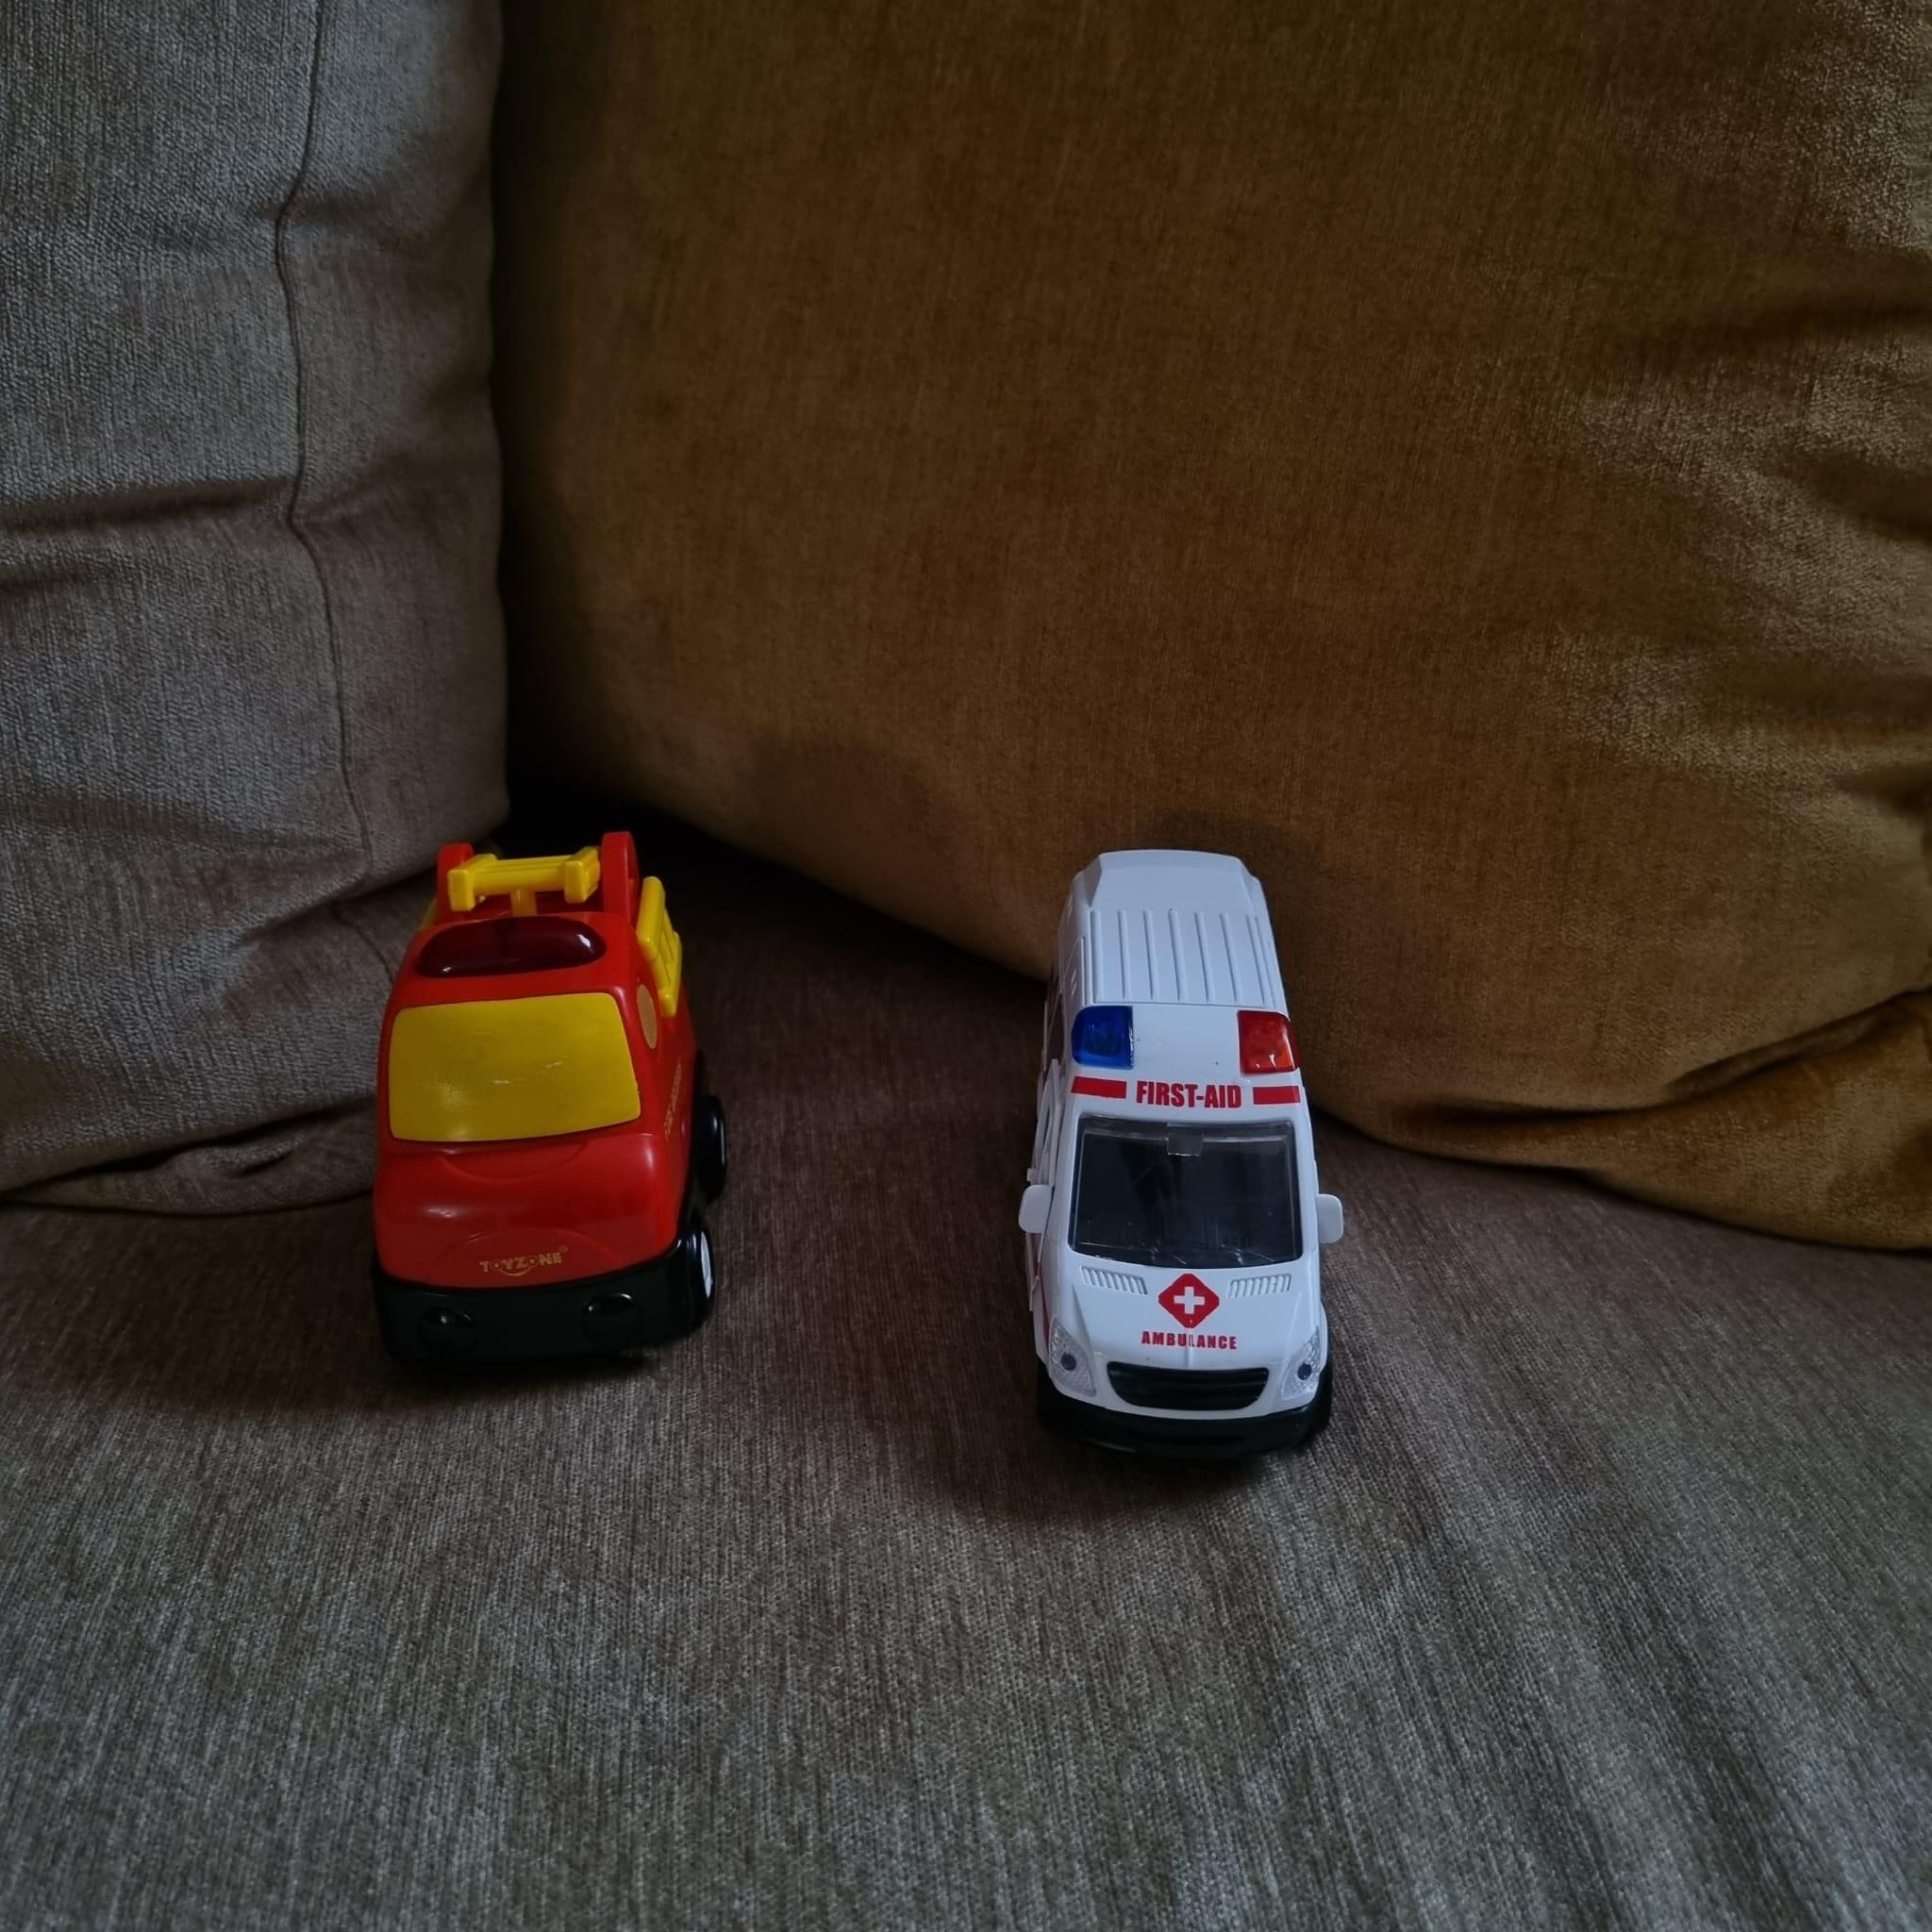ambulance_off: (1016, 849, 1359, 1474)
firetruck_off: (364, 832, 740, 1368)
